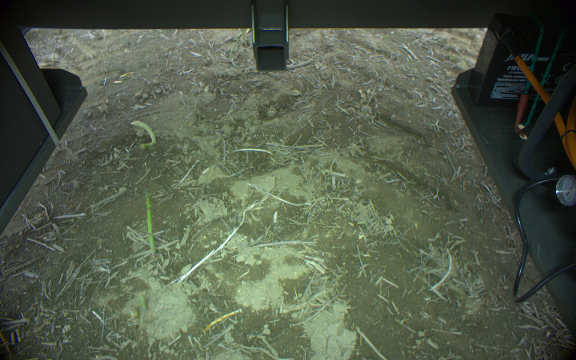aspa: (143, 183, 158, 260), (131, 120, 157, 149)
